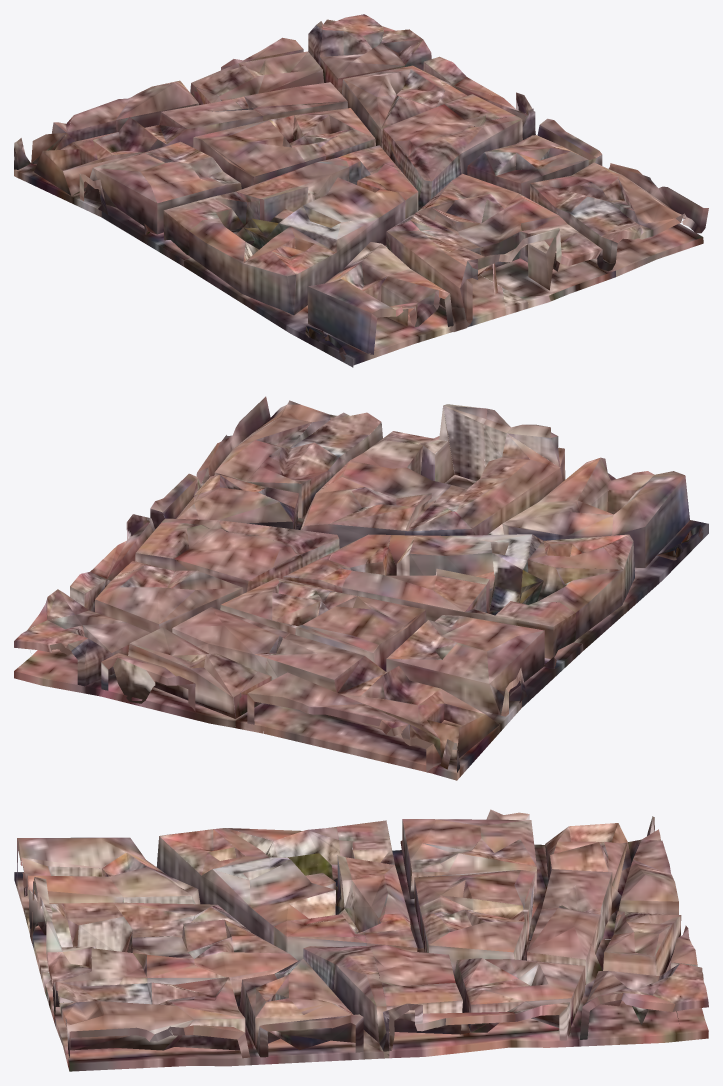
3 renders of one model, top to bottom at view 1: azimuth 30°, elevation 25°; view 2: azimuth 150°, elevation 25°; view 3: azimuth 270°, elevation 25°, orthographic. The views are drawn at different scales.
Parts seen in each view (by area): view 1: Mesh_0; view 2: Mesh_0; view 3: Mesh_0.
Part boxes in pixels (x1,y1,x2,y2): Mesh_0: (14,14,708,367); Mesh_0: (14,396,708,780); Mesh_0: (14,809,708,1071).
Bounding box in the file's own units: 270 × 46.07 × 330.
2 materials, 2 textured.
